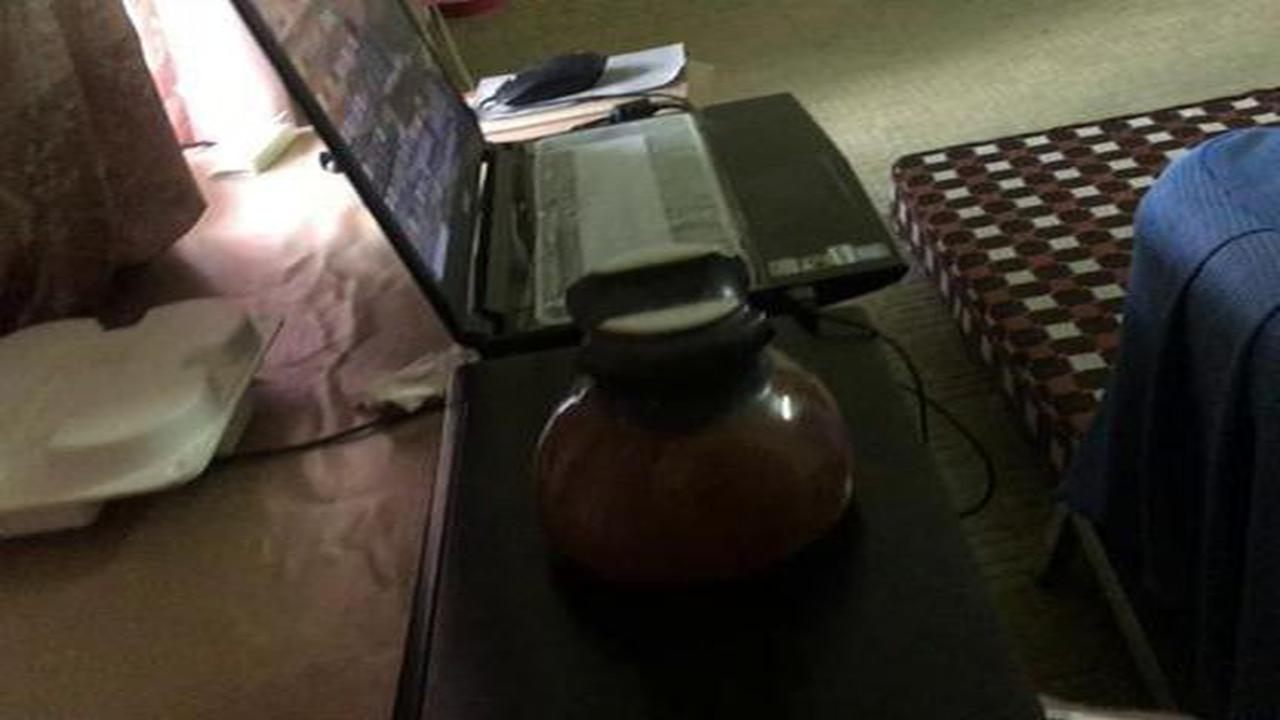insulator_pin: (505, 241, 896, 627)
